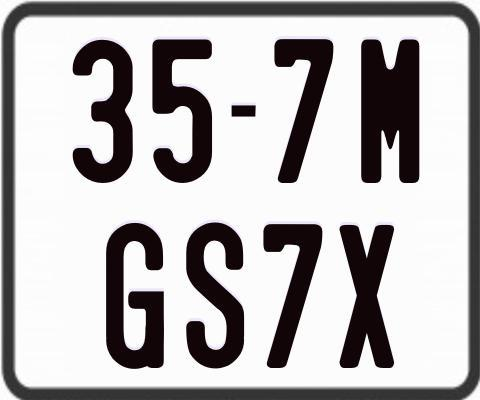3: (73, 39, 135, 188)
5: (151, 36, 214, 184)
7: (274, 38, 333, 184), (262, 224, 321, 369)
G: (103, 220, 161, 369)
M: (358, 39, 417, 189)
S: (185, 221, 249, 369)
X: (339, 225, 395, 370)
